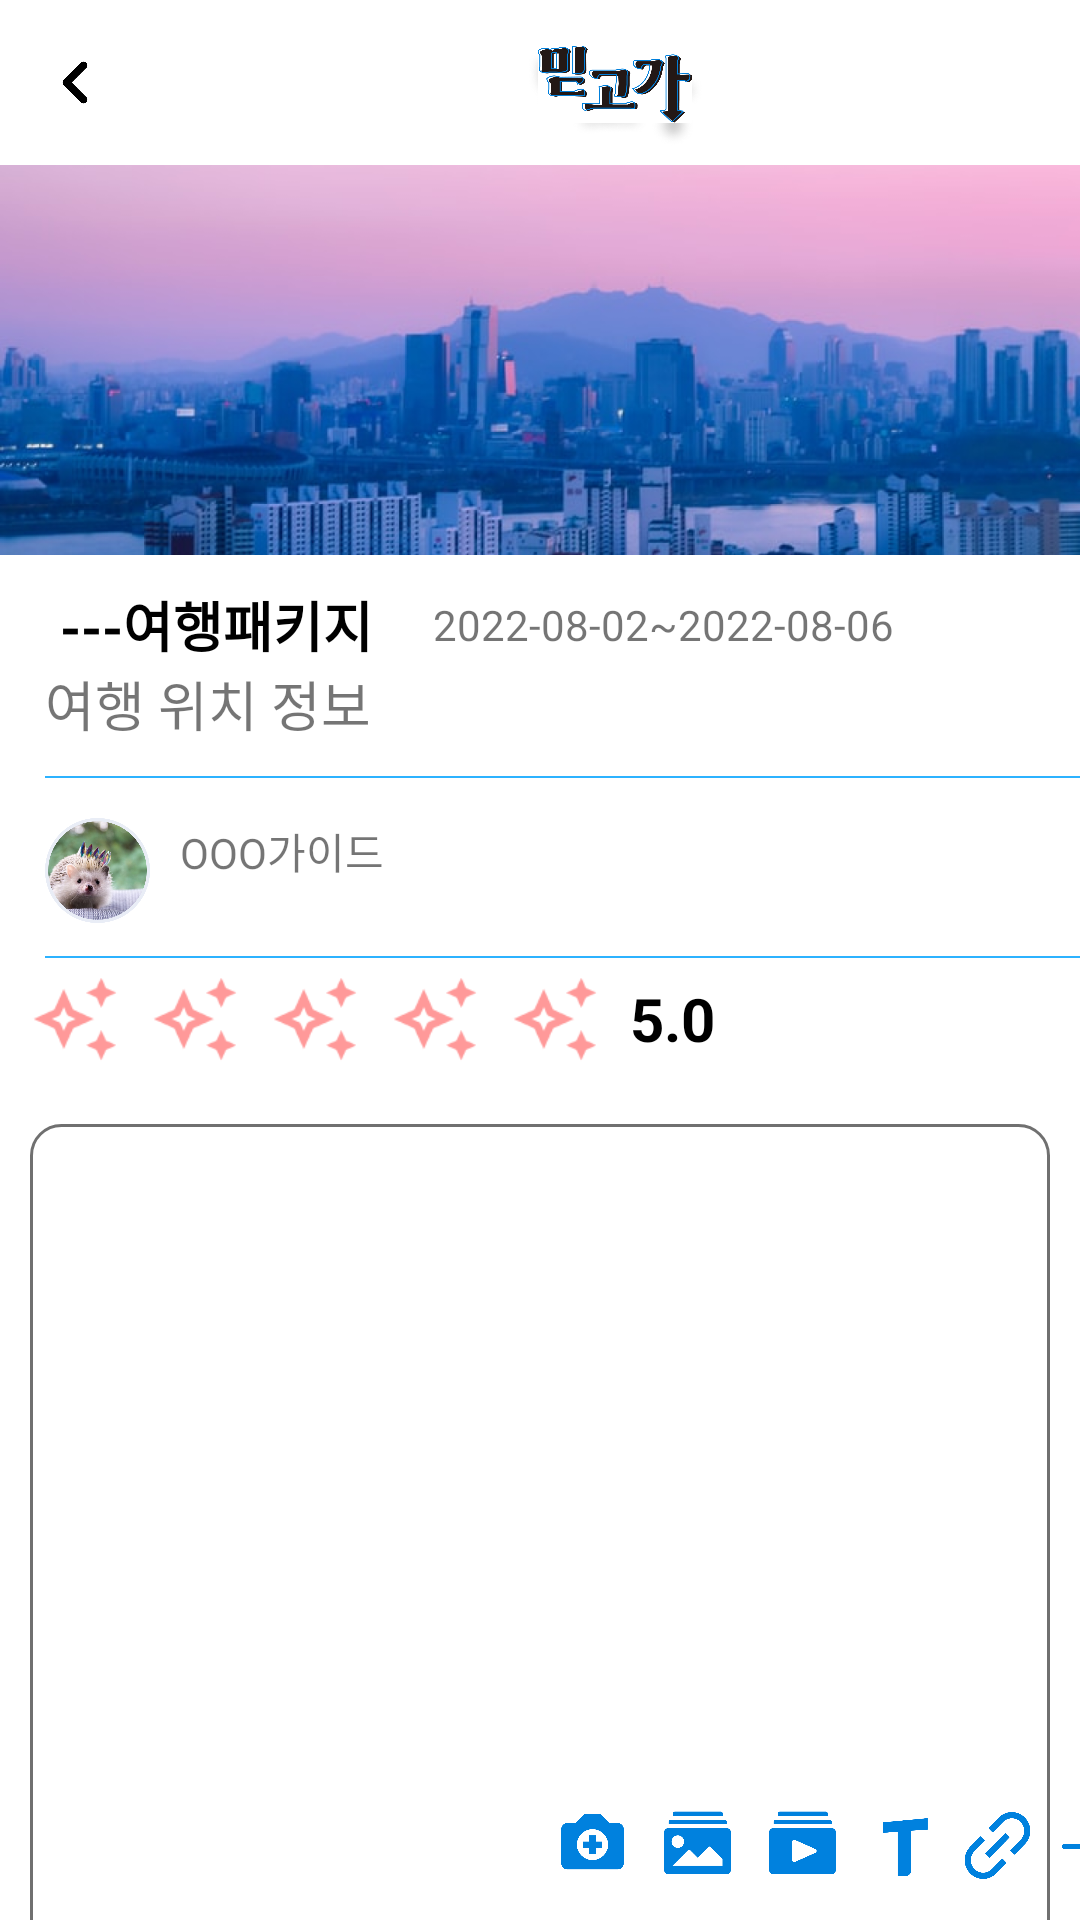

Named icons in this screenshot (1080×1920) and their bounding boxes, (x1, y1, x2, y2):
star: (34, 978, 116, 1060), (154, 978, 236, 1060), (274, 978, 356, 1060), (394, 978, 476, 1060), (514, 978, 596, 1060)
